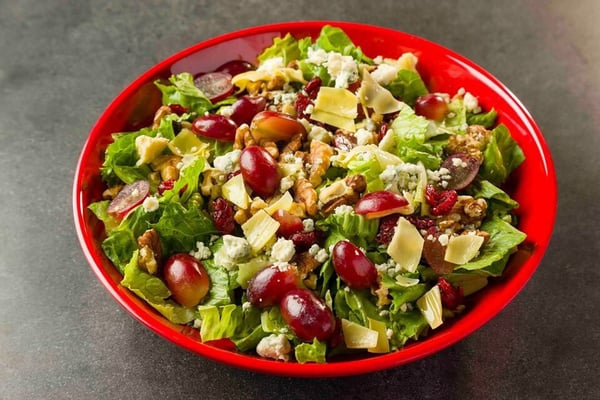sushi: (71, 17, 571, 380)
